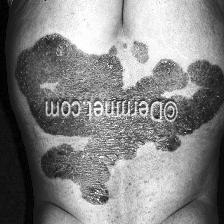Non-Cancerous Skin Condition: (11, 26, 118, 210), (123, 42, 224, 148)
